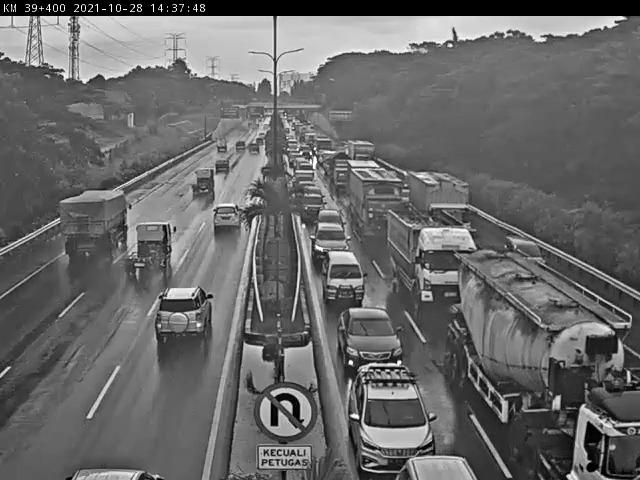big truck: (430, 246, 632, 480), (377, 201, 493, 305), (48, 169, 146, 269), (340, 169, 435, 251)
car: (338, 360, 446, 476), (324, 305, 421, 375), (147, 278, 219, 343), (58, 449, 202, 480), (502, 214, 556, 277), (397, 451, 491, 480), (309, 213, 356, 266), (207, 198, 256, 238), (298, 192, 328, 224), (212, 153, 236, 175)
small bus: (310, 250, 388, 312)
small truck: (116, 215, 179, 287), (182, 164, 231, 204), (208, 128, 229, 154)
